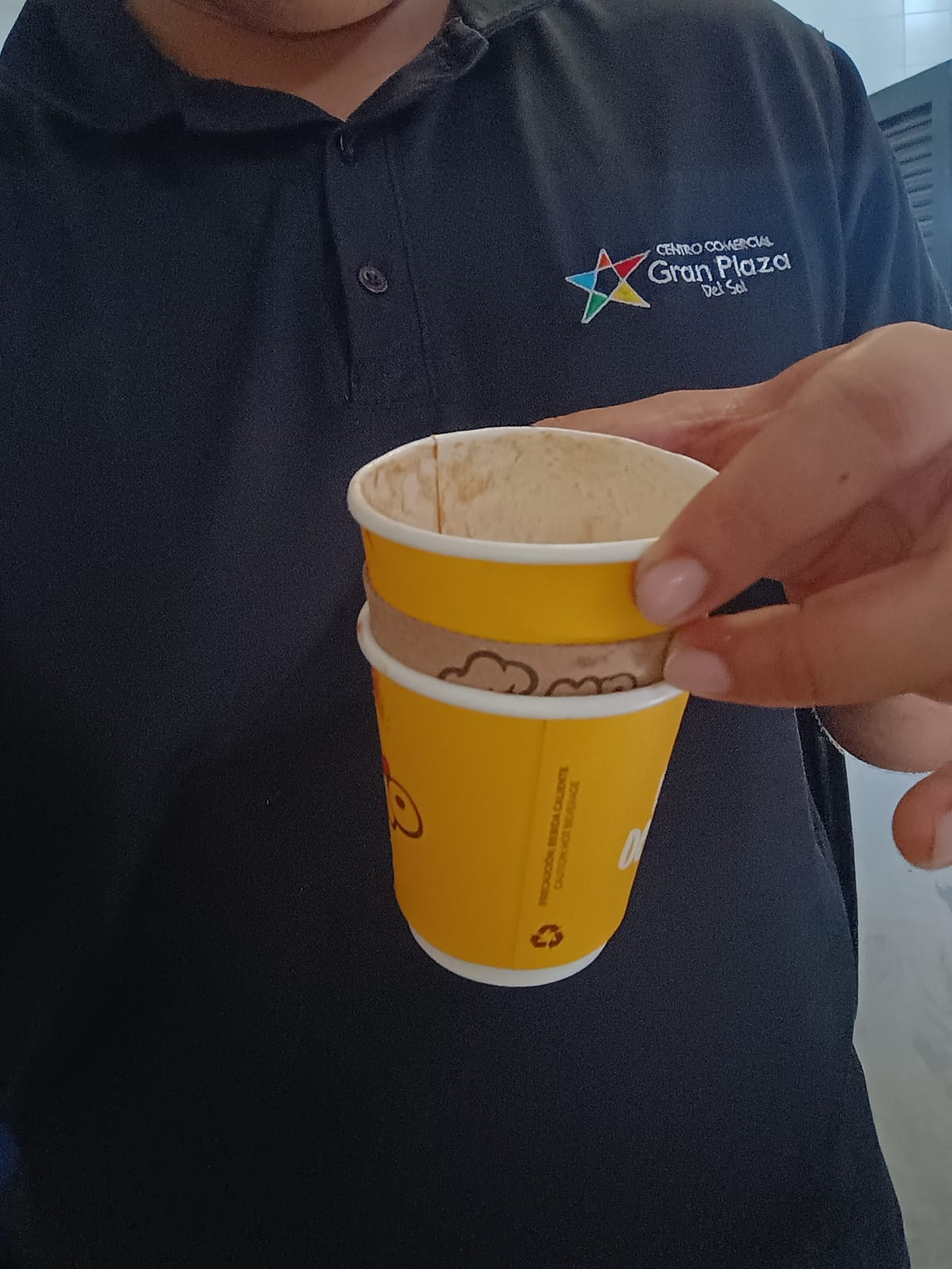Carton: (351, 423, 736, 989)
